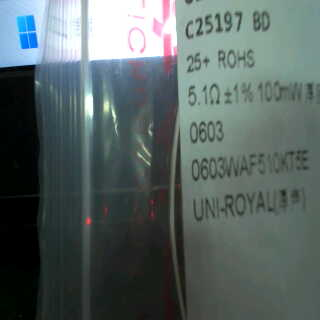5.1R: (183, 82, 224, 105)
